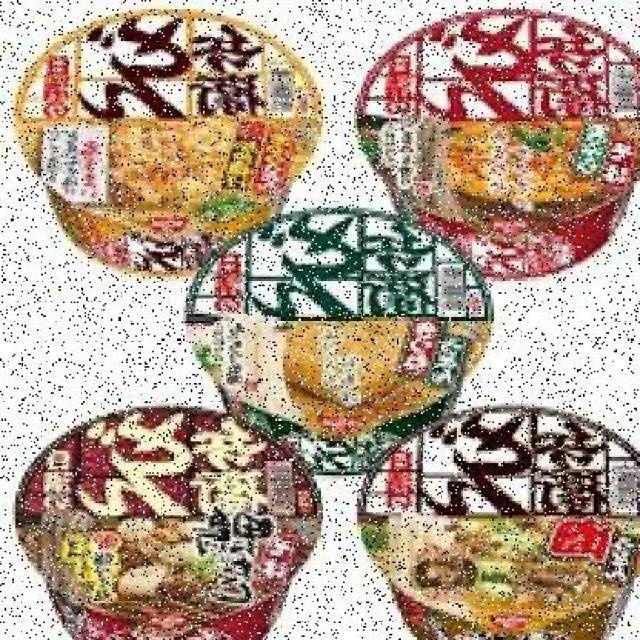Miscellaneous: (6, 4, 322, 284), (351, 3, 640, 280), (185, 208, 482, 467), (357, 394, 640, 640), (12, 412, 311, 640)
